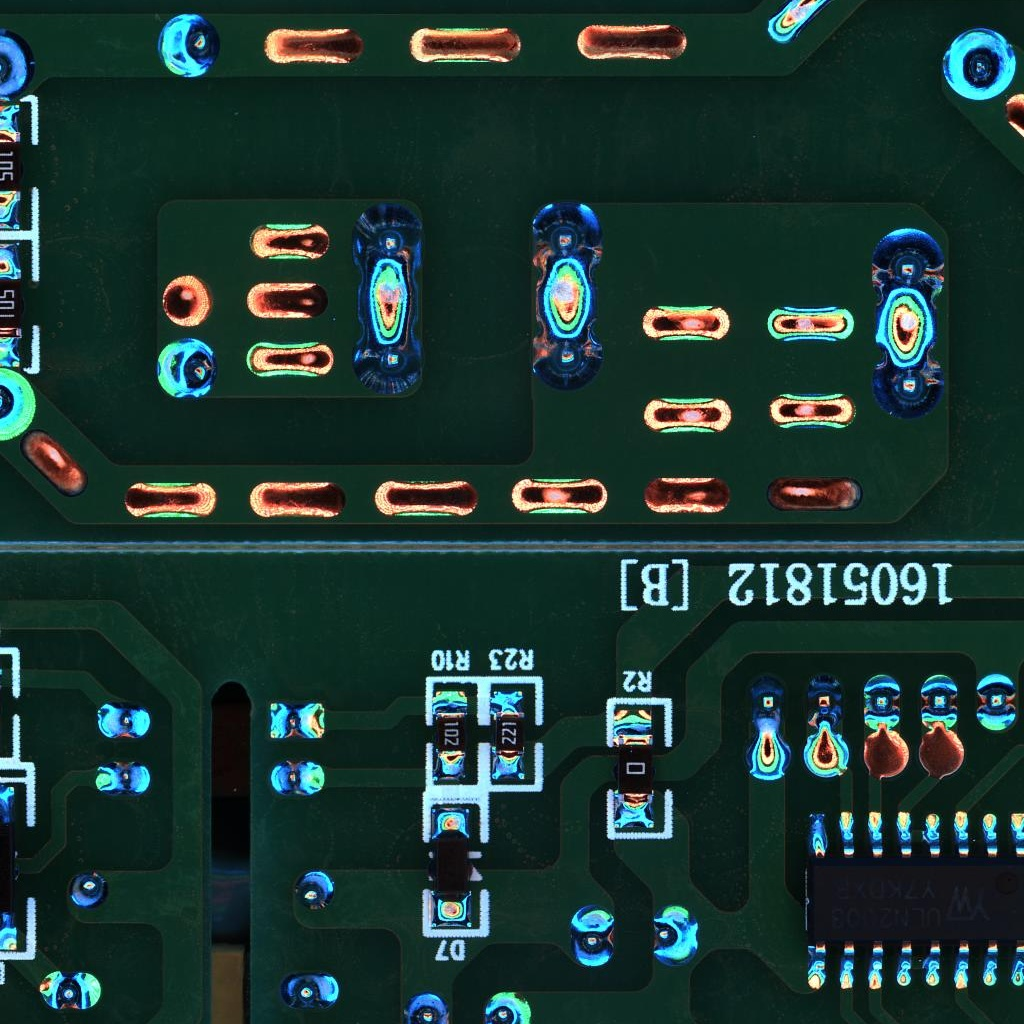spot: (866, 226, 947, 304), (940, 25, 1018, 103), (349, 326, 432, 398), (349, 200, 426, 277), (528, 200, 604, 274), (528, 321, 608, 391), (868, 345, 945, 416), (156, 13, 223, 78), (153, 335, 219, 399), (649, 903, 701, 968), (566, 904, 617, 970), (1, 363, 38, 446), (36, 968, 104, 1013), (1, 30, 39, 102), (975, 671, 1018, 733), (748, 669, 788, 734), (279, 971, 342, 1012), (918, 672, 960, 733), (861, 671, 901, 734), (803, 670, 845, 730), (93, 700, 153, 742), (266, 700, 327, 741), (269, 759, 327, 796), (91, 760, 154, 794), (294, 869, 338, 914), (401, 990, 457, 1024), (480, 989, 533, 1024), (67, 871, 111, 910)
